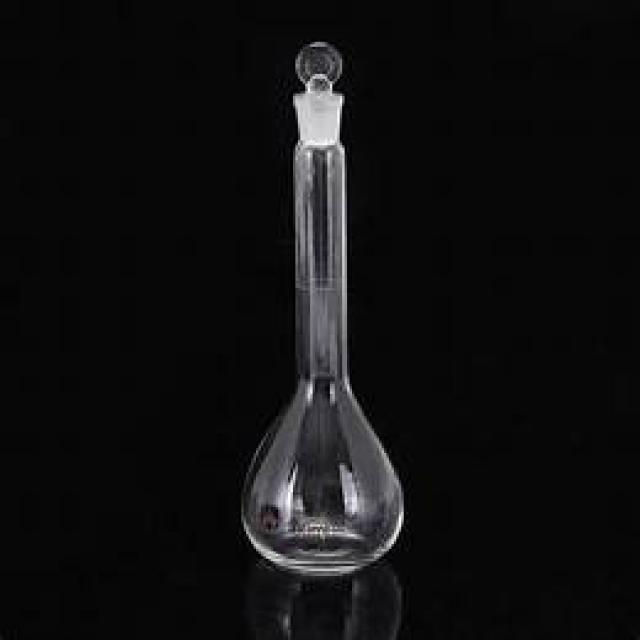Volumetric flask: (240, 36, 409, 574)
